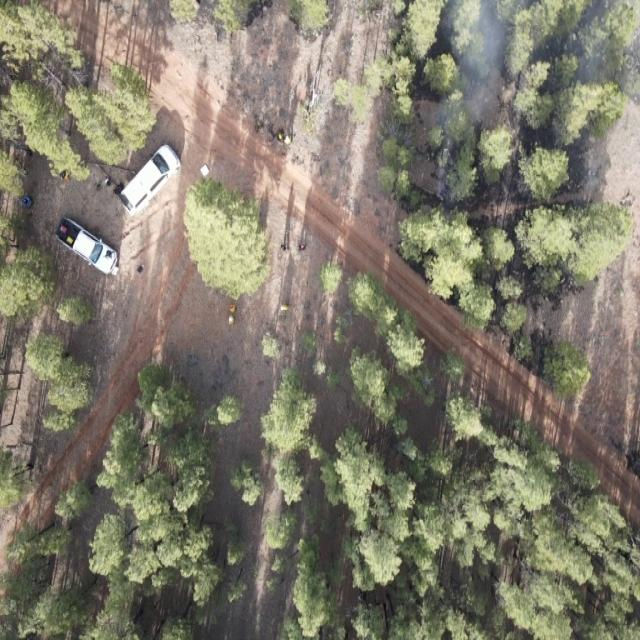smoke: (428, 0, 522, 158), (521, 0, 640, 92)
